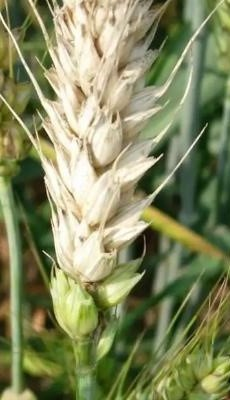Wheat scab: (40, 1, 155, 342)
